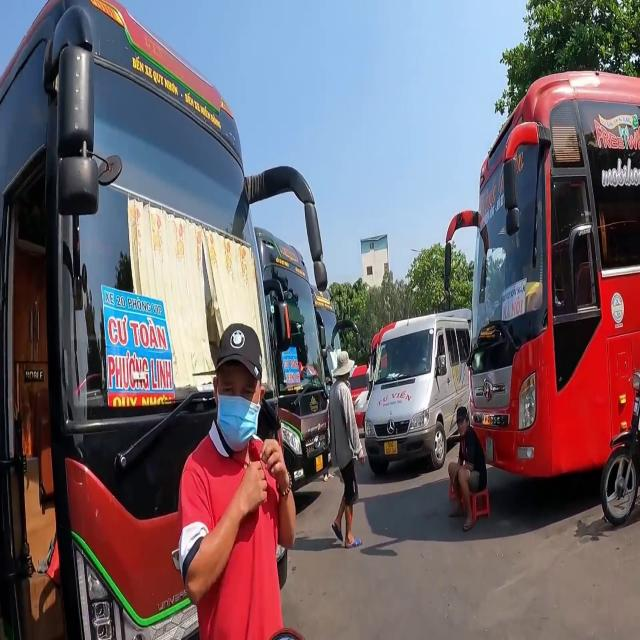bien_vang: (314, 456, 327, 473), (385, 440, 397, 457)
